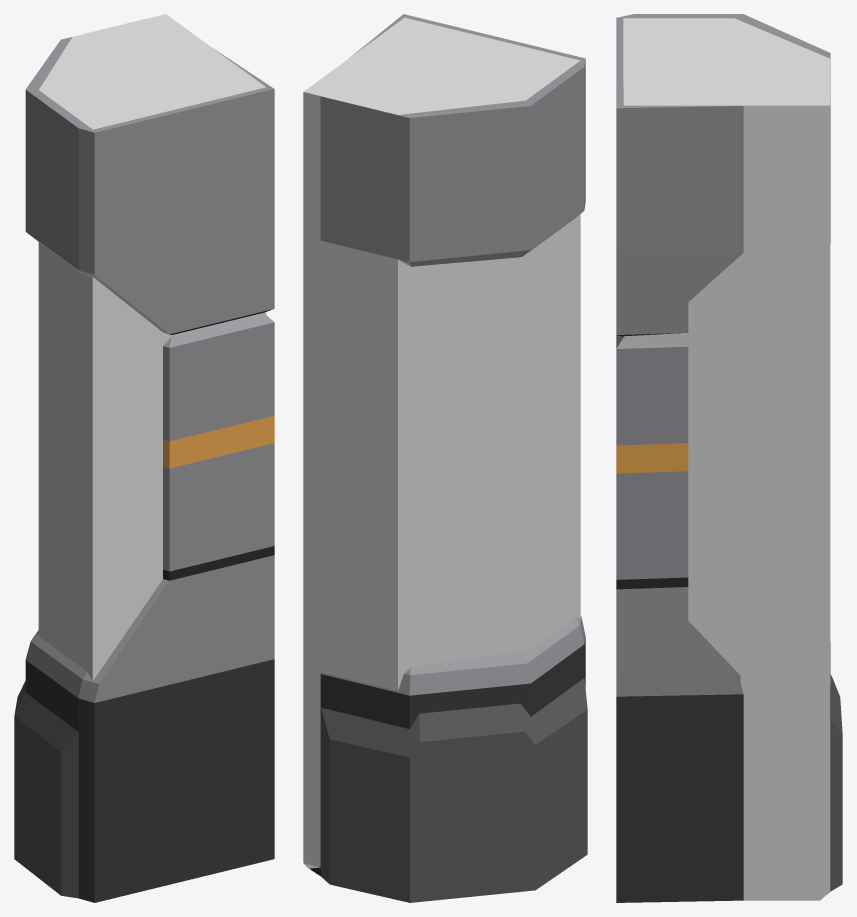
File: SM_Bld_Wall_Corner_Pillar_05.fbx
3 renders of one model, left to right at view 1: azimuth 30°, elevation 25°; view 2: azimuth 150°, elevation 25°; view 3: azimuth 270°, elevation 25°, orthographic. The views are drawn at different scales.
Parts seen in each view (by area): view 1: SM_Bld_Wall_Corner_Pillar_05_LOD0, SM_Bld_Wall_Corner_Pillar_05_ConvexHulls; view 2: SM_Bld_Wall_Corner_Pillar_05_ConvexHulls, SM_Bld_Wall_Corner_Pillar_05_LOD0; view 3: SM_Bld_Wall_Corner_Pillar_05_ConvexHulls, SM_Bld_Wall_Corner_Pillar_05_LOD0.
Boxes of the visible parts, left/top/right/bottom form: SM_Bld_Wall_Corner_Pillar_05_LOD0: left=14, top=37, right=274, bottom=902; SM_Bld_Wall_Corner_Pillar_05_ConvexHulls: left=38, top=14, right=266, bottom=680; SM_Bld_Wall_Corner_Pillar_05_ConvexHulls: left=303, top=17, right=580, bottom=868; SM_Bld_Wall_Corner_Pillar_05_LOD0: left=310, top=14, right=587, bottom=902; SM_Bld_Wall_Corner_Pillar_05_ConvexHulls: left=623, top=18, right=830, bottom=900; SM_Bld_Wall_Corner_Pillar_05_LOD0: left=616, top=14, right=842, bottom=902.
Bounding box in the file's own units: 132 × 137 × 509.
Materials: 1 (1 with a texture image).
